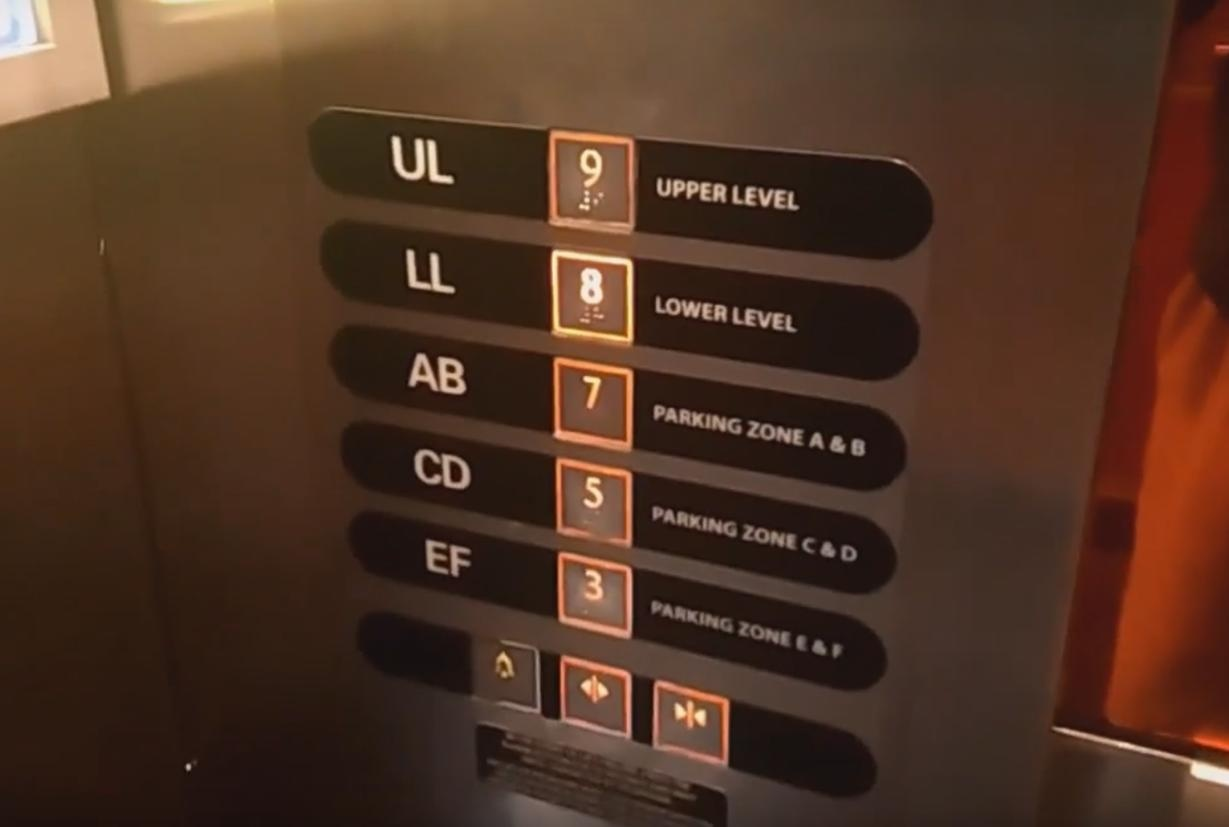3: (551, 549, 636, 641)
5: (551, 455, 637, 549)
7: (550, 351, 638, 453)
8: (547, 244, 637, 347)
9: (544, 124, 638, 239)
alarm: (462, 631, 543, 719)
close: (647, 676, 732, 768)
open: (551, 651, 636, 743)
